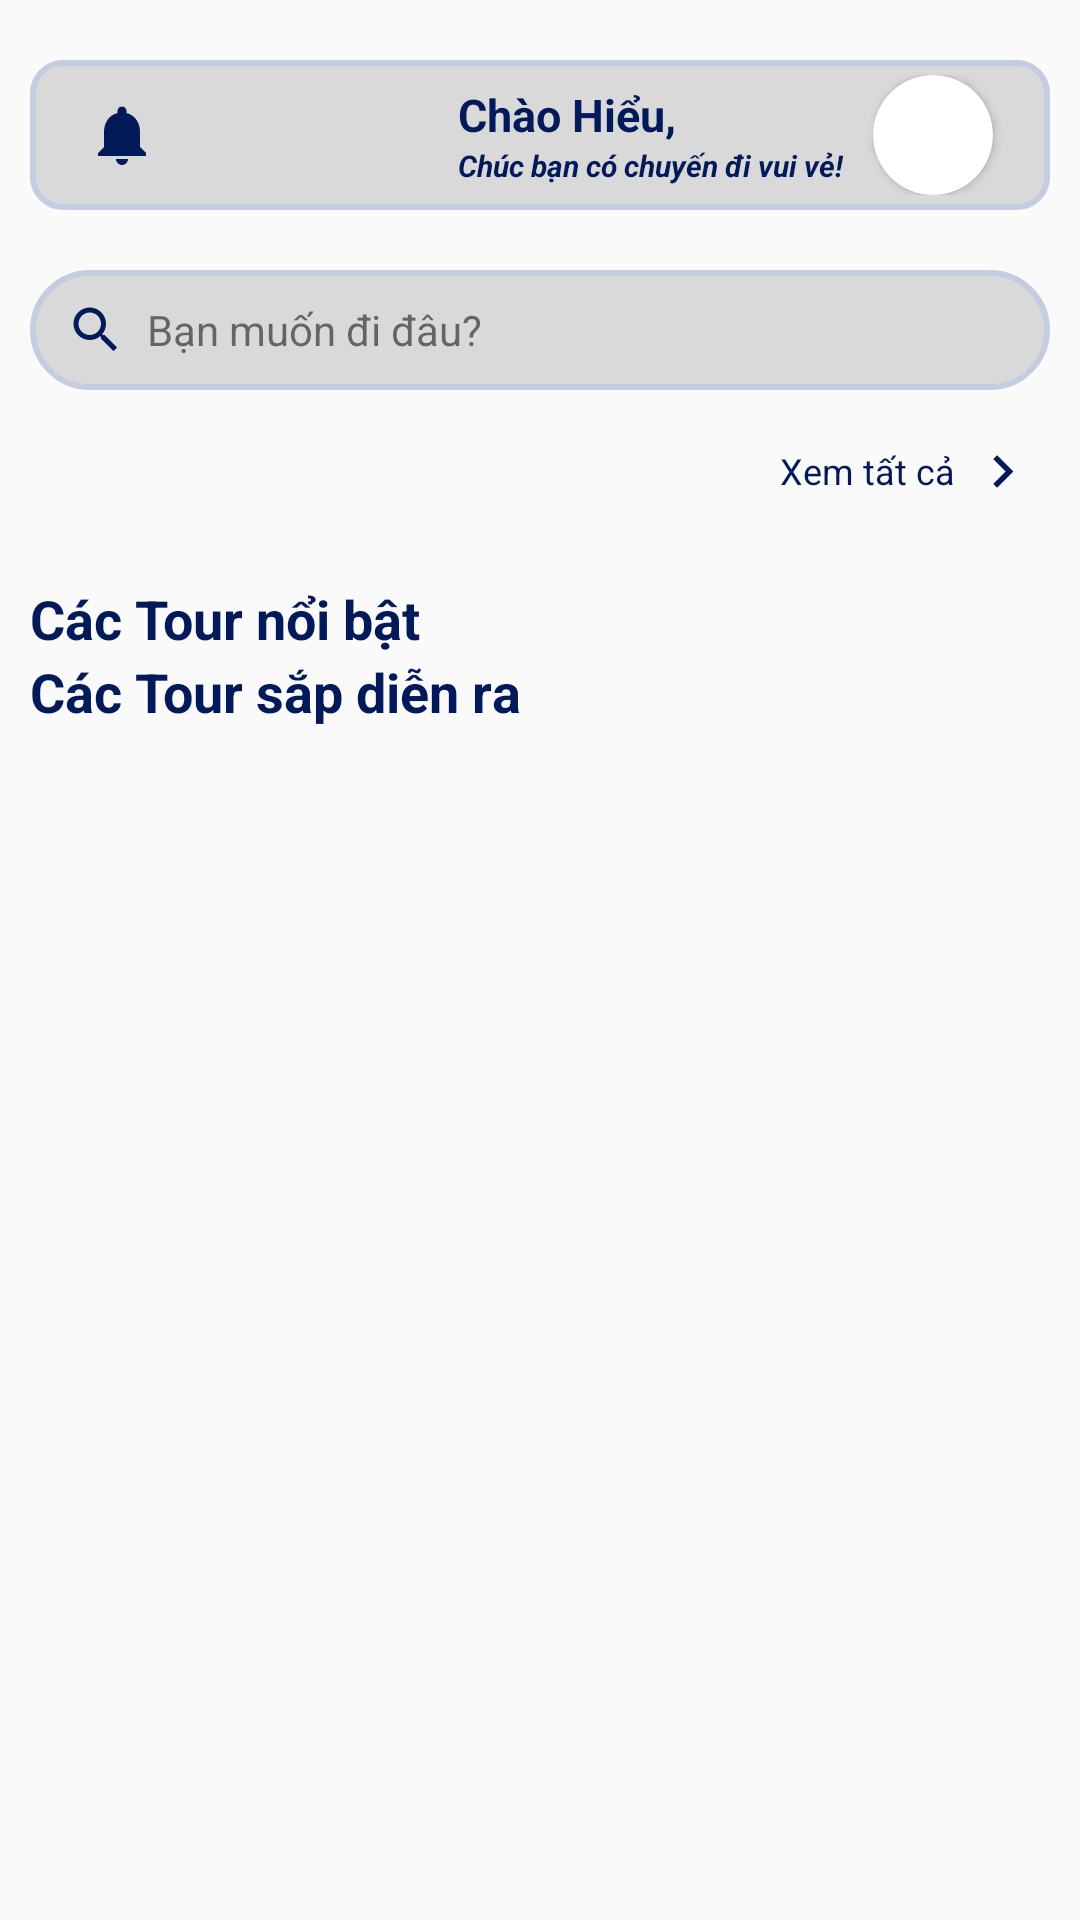

Icon click points for this 1080 × 1920 phone screenshot, format (x=x, y=y):
navigate next: (x=1003, y=471)
notifications: (x=122, y=135)
search: (x=95, y=329)
